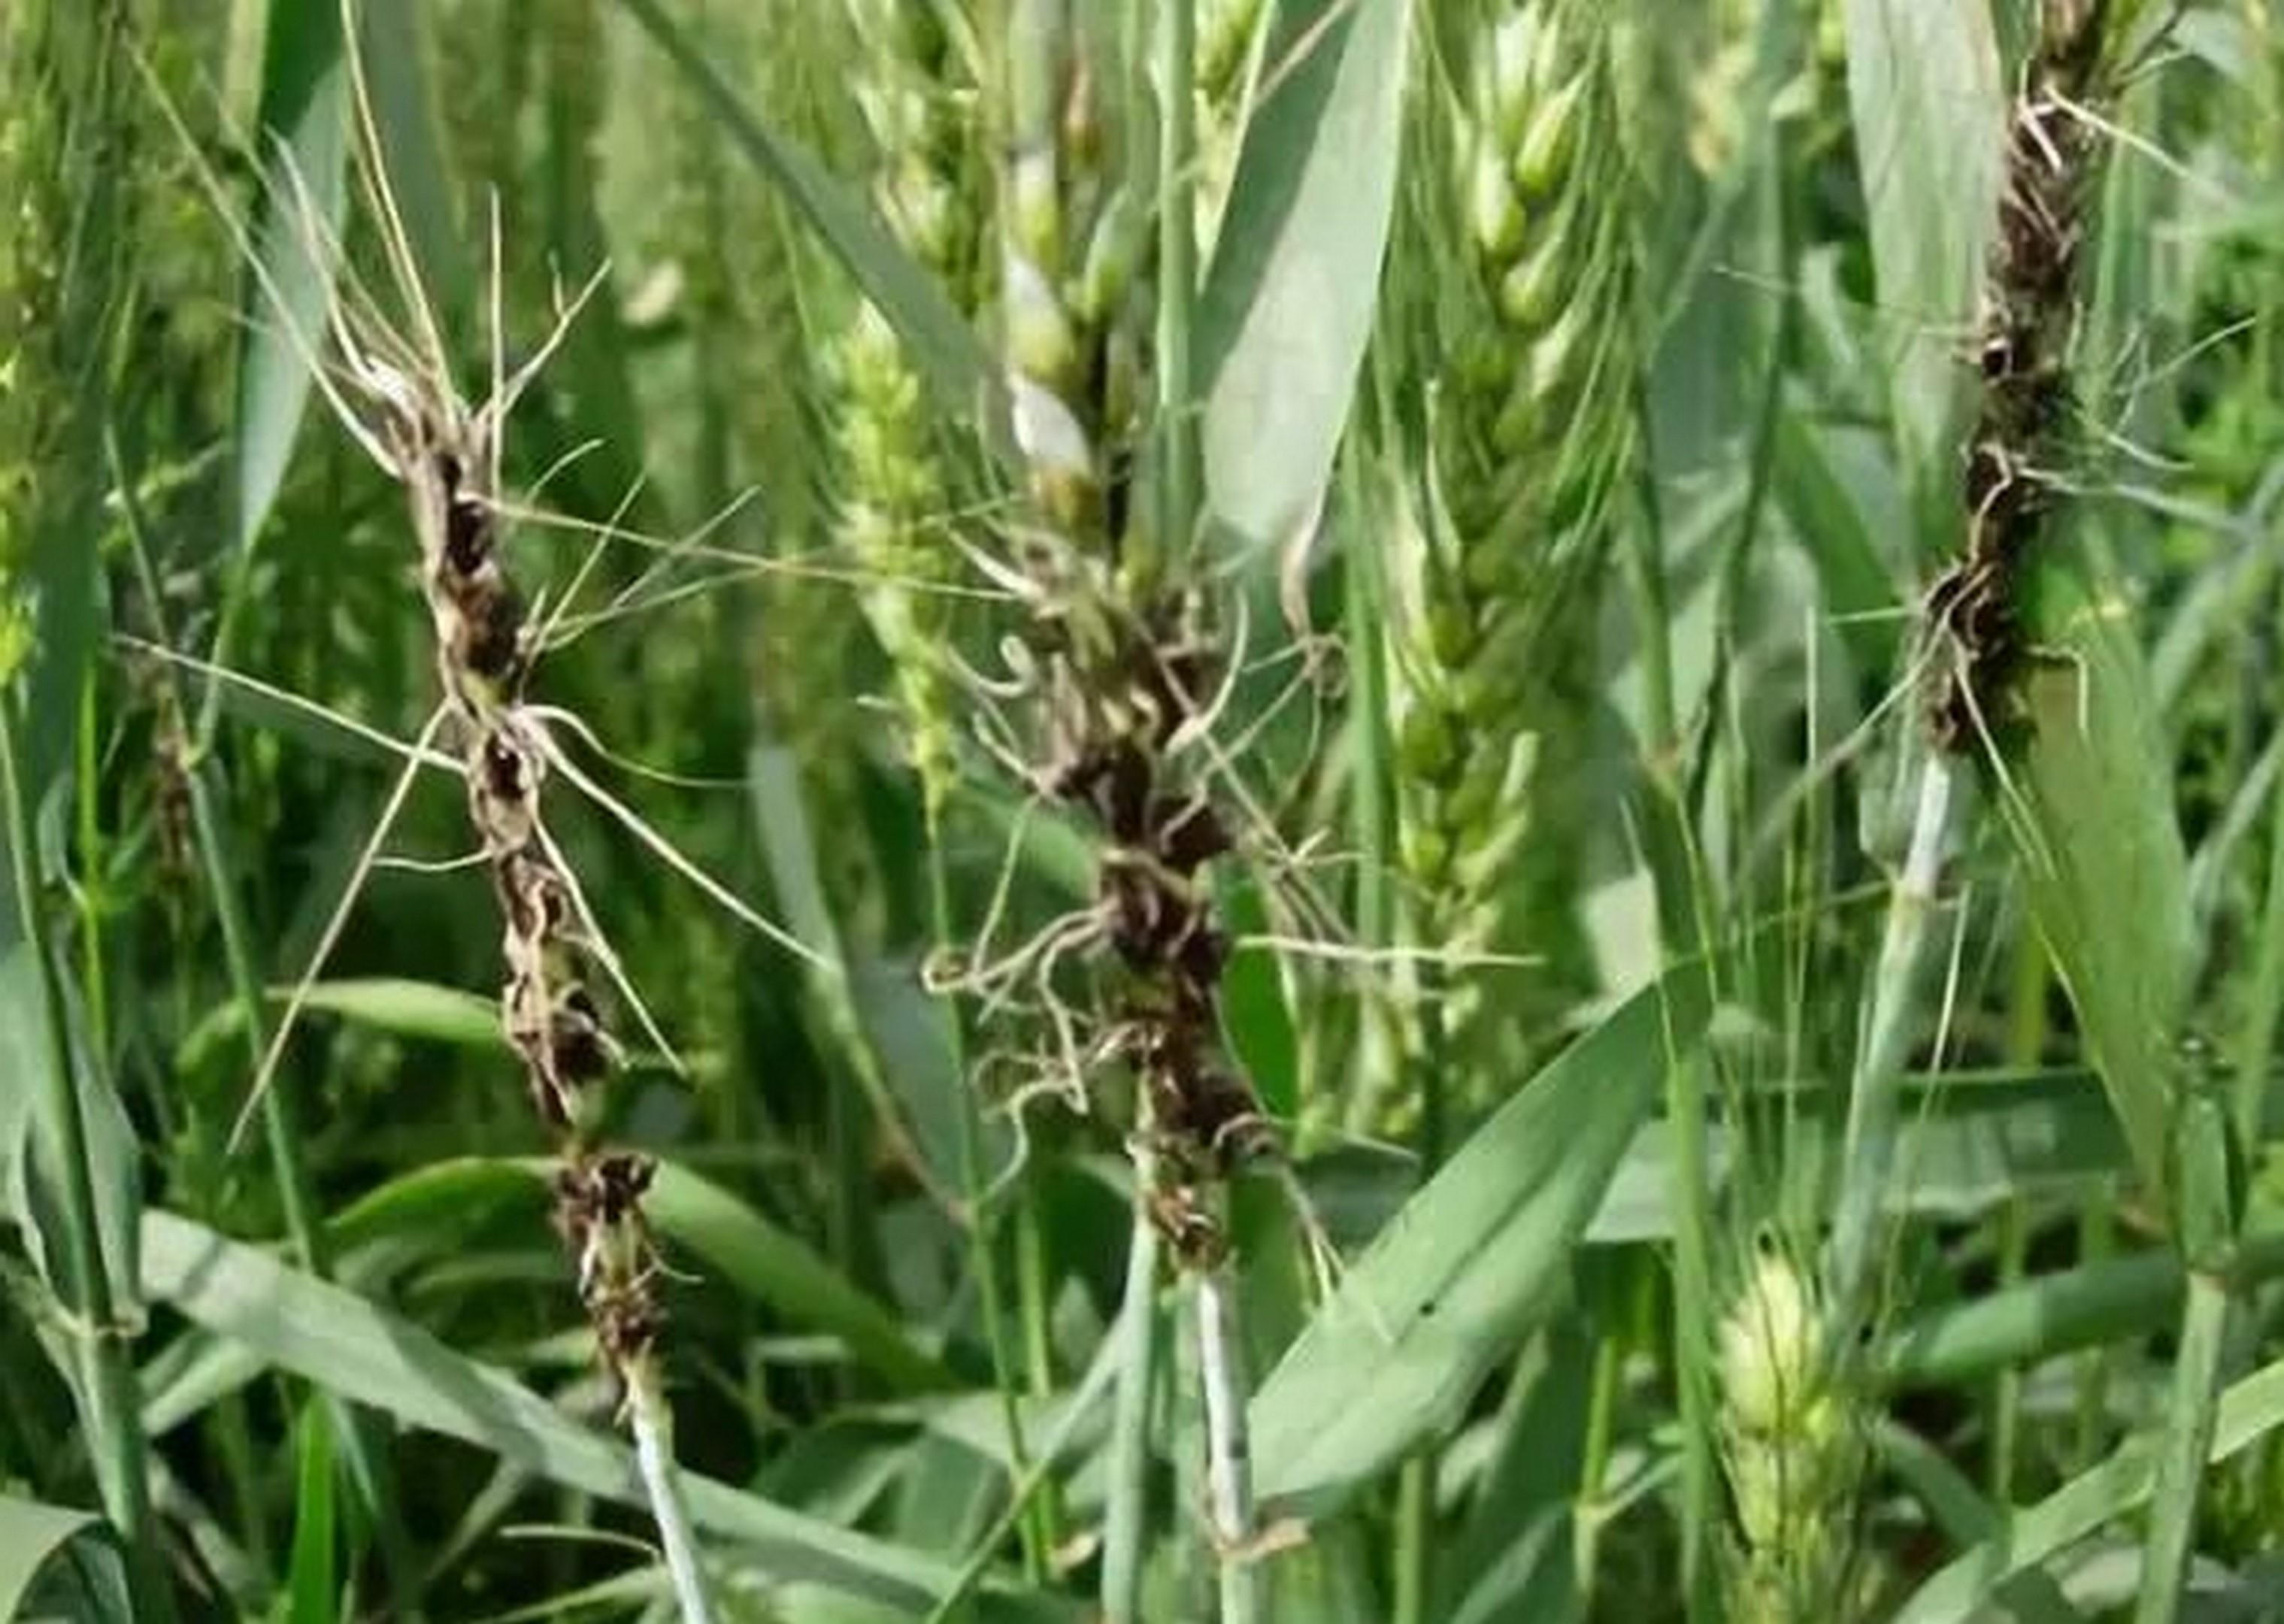Wheat Loose Smut: (346, 383, 754, 1339), (1905, 12, 2158, 750)
